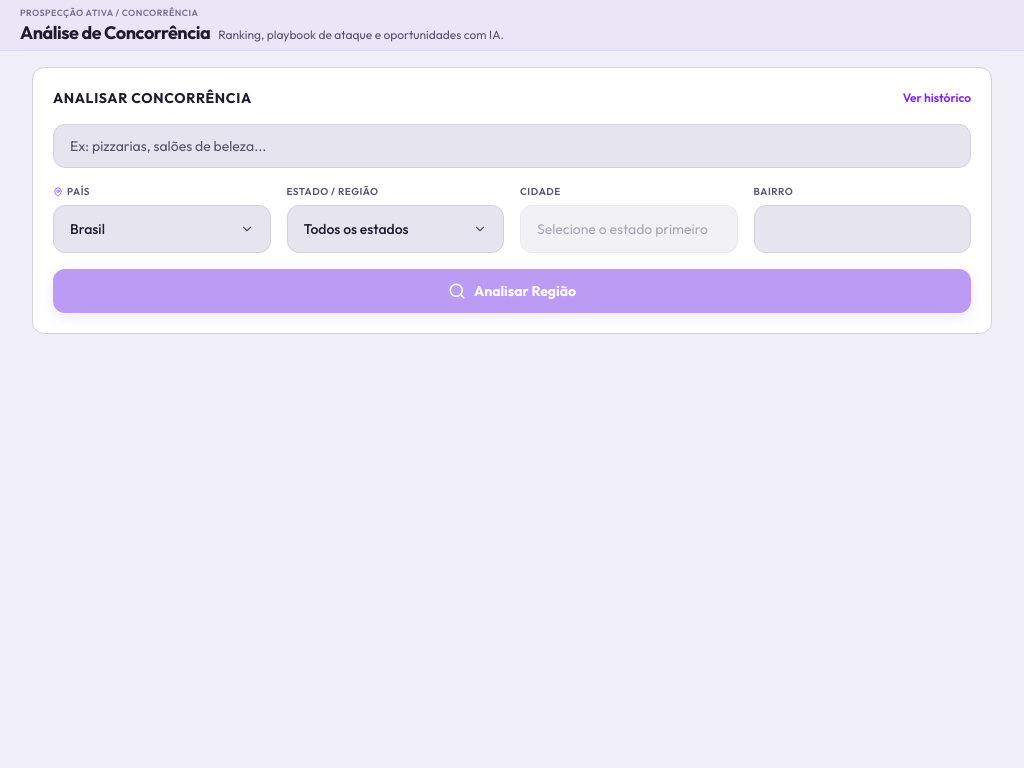
Test: Intelligence modules › ConcorrenciaPage › shows error banner when competitor analysis fails
Type "pizza" into the field with placeholder "Ex: pizzarias, salões de beleza...". click: [512, 146]
box: x1=53 y1=124 x2=971 y2=168
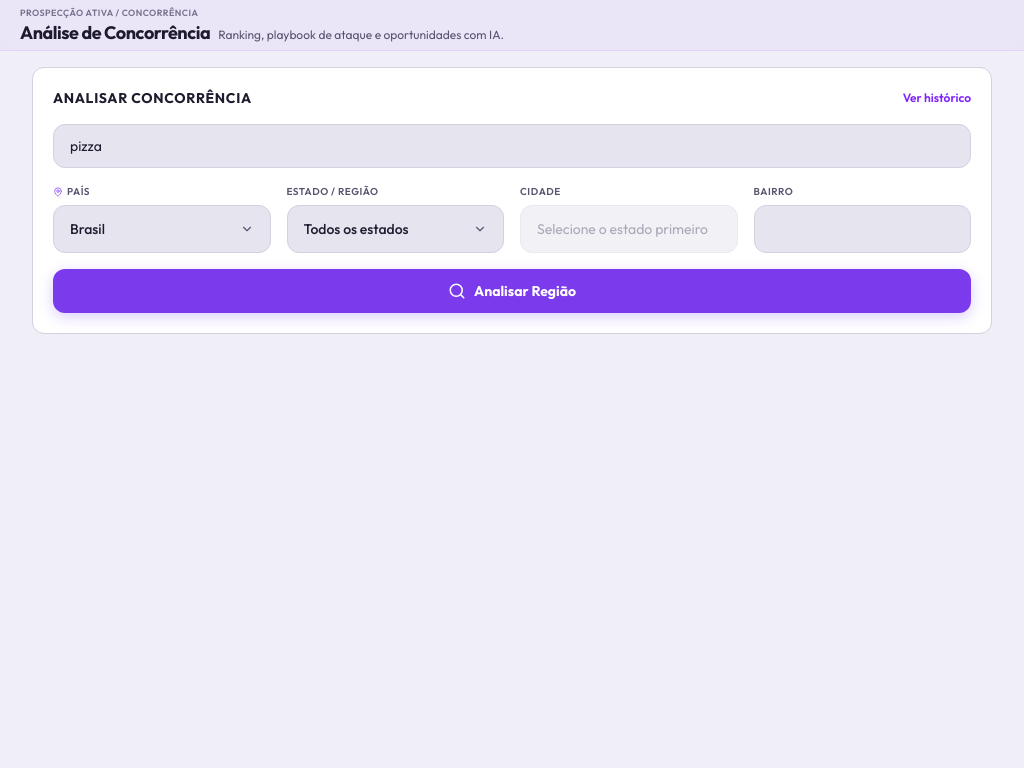
Click the button "Analisar Região". click: [512, 291]
box: x1=53 y1=269 x2=971 y2=313
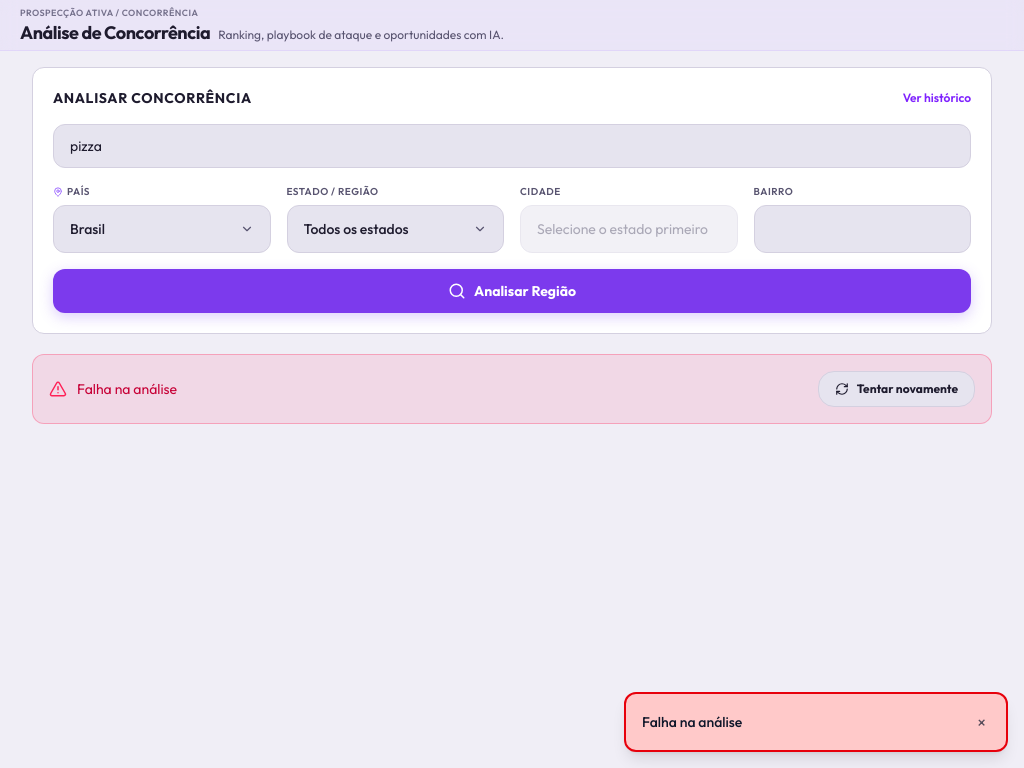
Now the text "Falha na análise" below "País" is shown, box x1=77 y1=380 x2=177 y2=398
